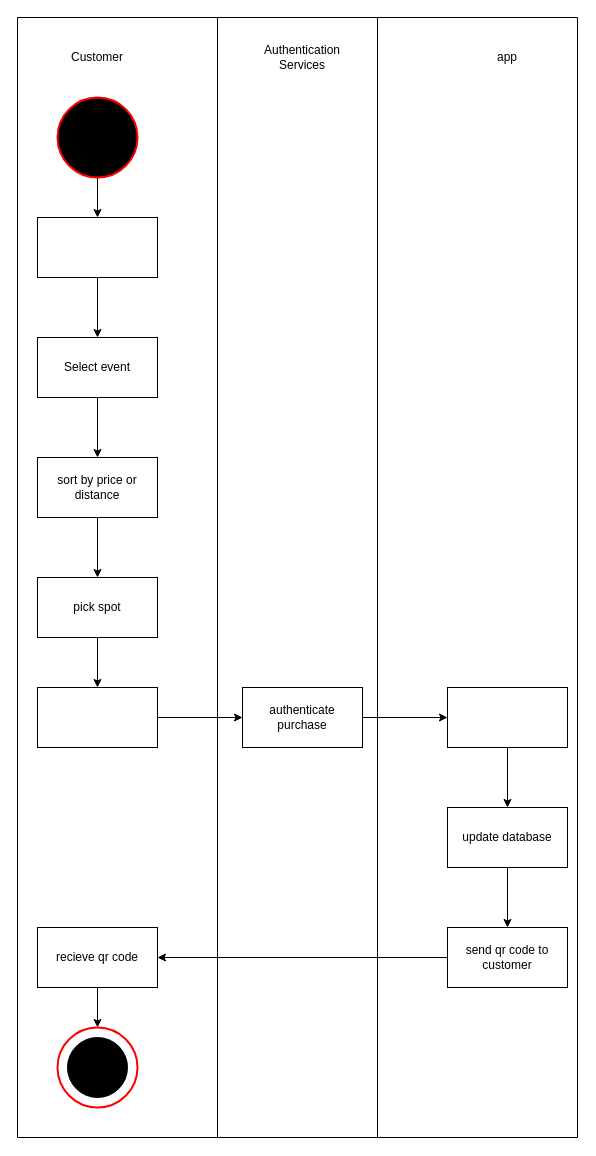
Image size: 596x1156. Some labels were removed from this diagram. Each missing label, with the box of its shape:
generate QR code: (446, 686, 568, 748)
Purchase spot: (36, 686, 158, 748)
Search for events: (36, 216, 158, 278)
